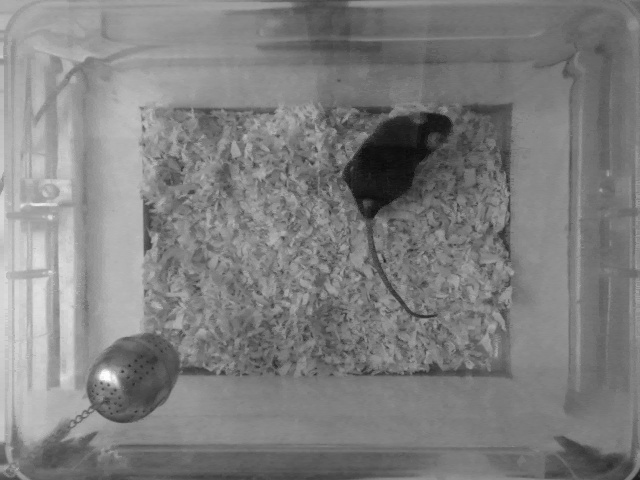mice: (340, 111, 453, 320)
